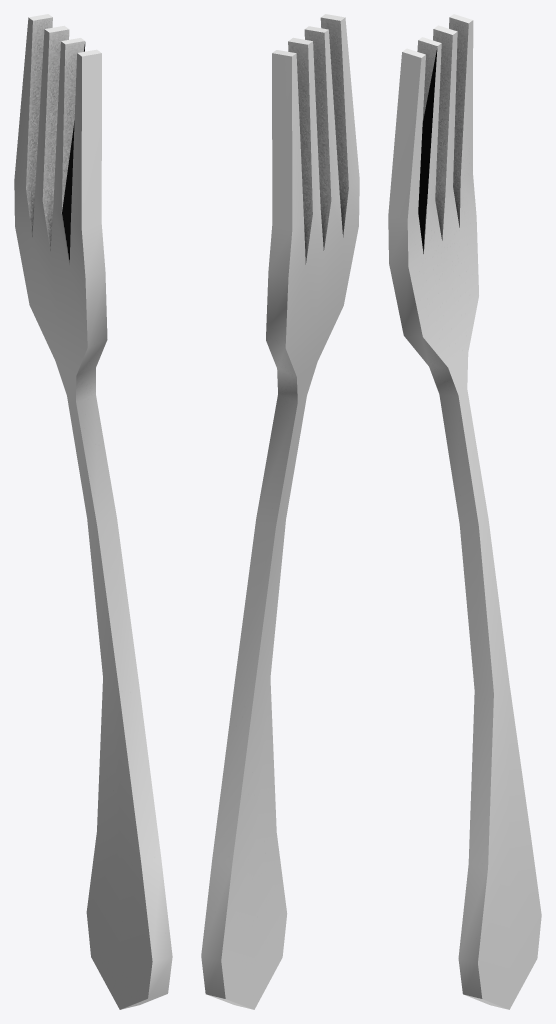
Rendered from fork.fbx.
The picture shows the model from 3 angles, left to right: view 1: azimuth 30°, elevation 25°; view 2: azimuth 150°, elevation 25°; view 3: azimuth 330°, elevation 25°; orthographic projection. The views are drawn at different scales.
Parts seen in each view (by area): view 1: Cube; view 2: Cube; view 3: Cube.
Boxes of the visible parts, left/top/right/bottom form: Cube: left=14, top=14, right=172, bottom=1009; Cube: left=201, top=14, right=359, bottom=1009; Cube: left=388, top=14, right=541, bottom=1009.
Size of the model in its own units: 2.29 by 23.56 by 3.05.
1 material, 1 textured.
